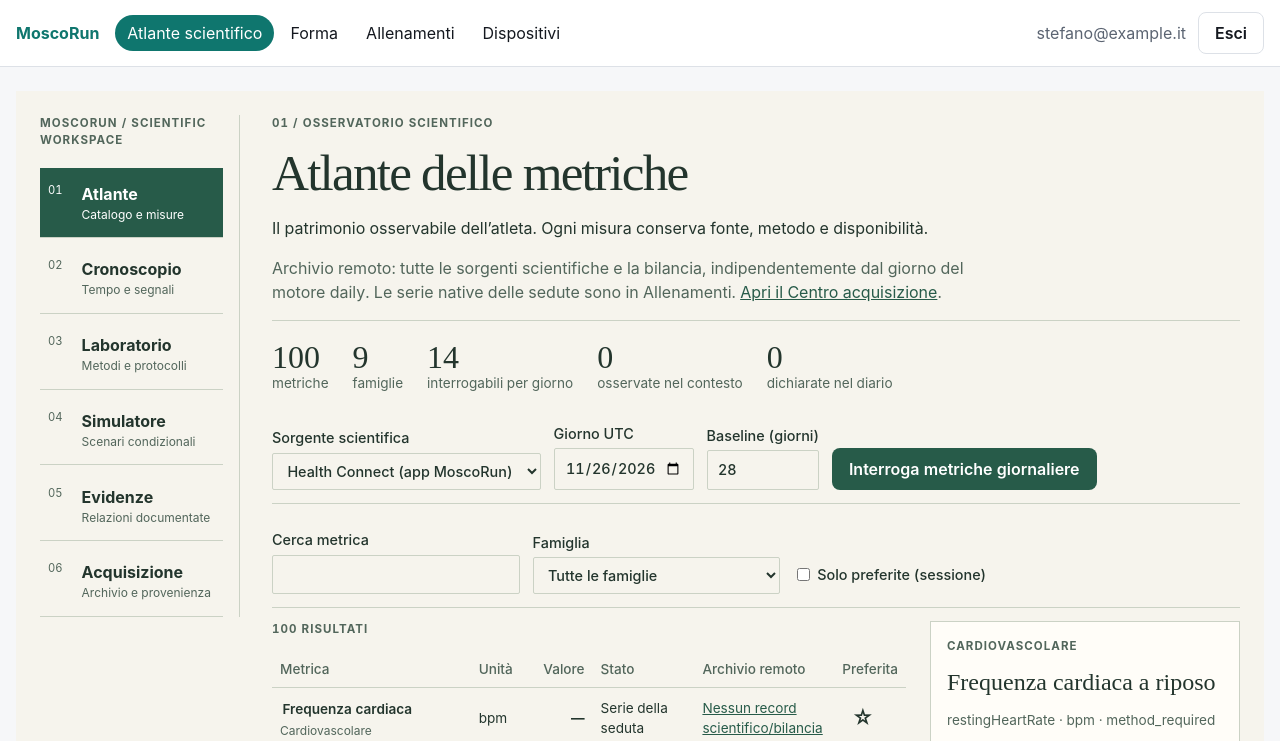
it: ambiente scientifico › interroga metriche giornaliere senza imputare i dati mancanti
This screenshot has width=1280, height=741.
Step 1. Click the button "Interroga metriche giornaliere" → coordinates (964, 469), box [832,448,1097,490]
(page scrolled)
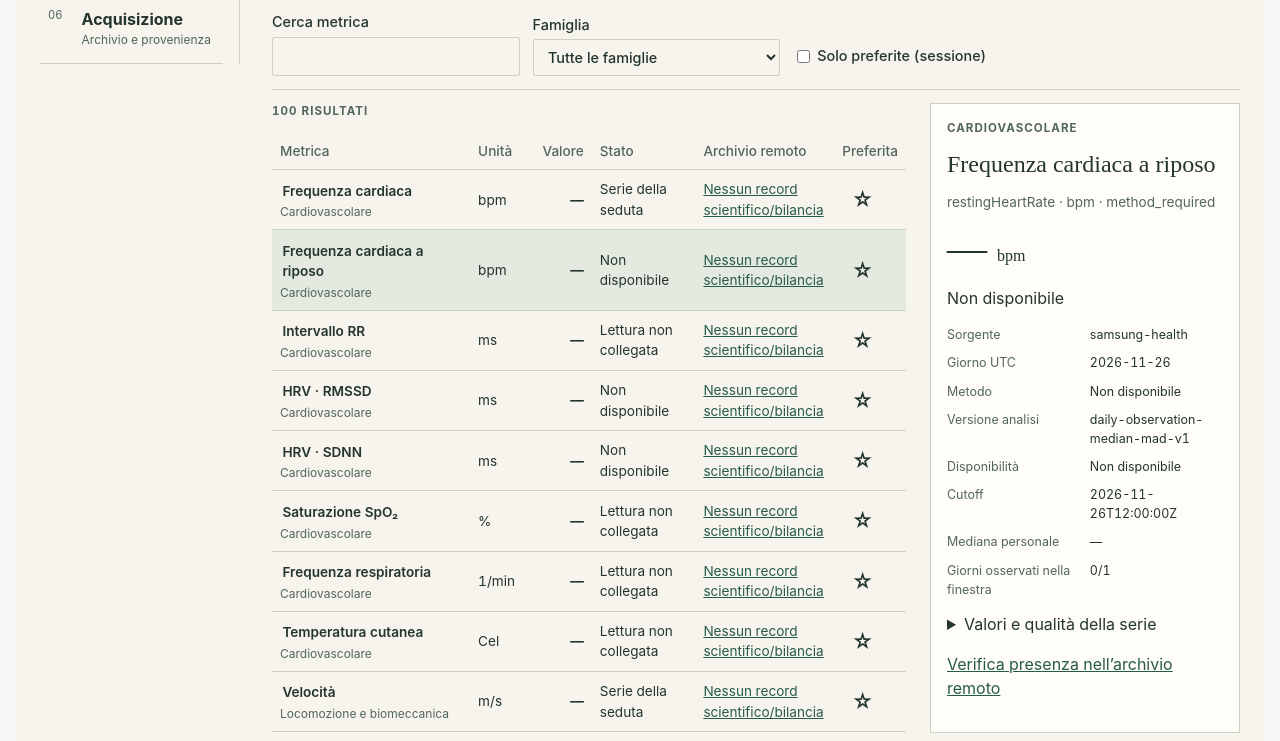
Expected: the 4th cell "—" is shown, [534,371,592,431]
Expected: the 2nd text "Non disponibile" is shown, [592,371,695,431]
